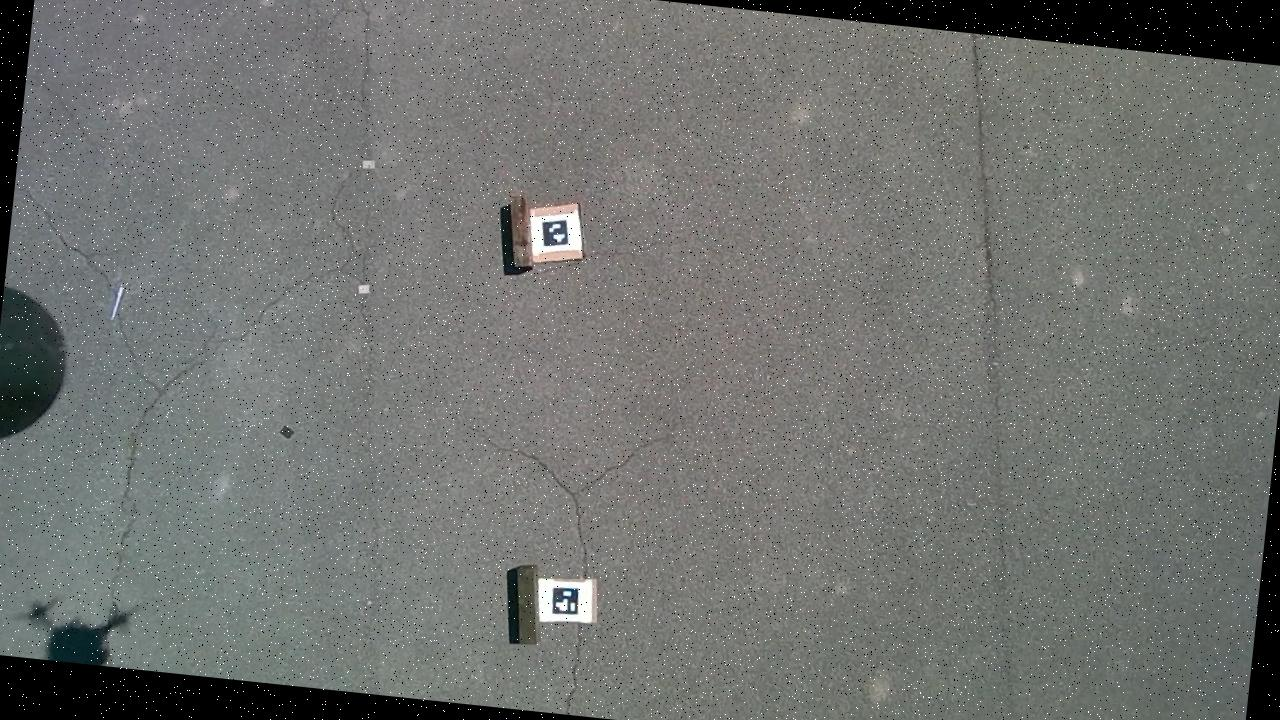probes: (110, 286, 124, 320)
